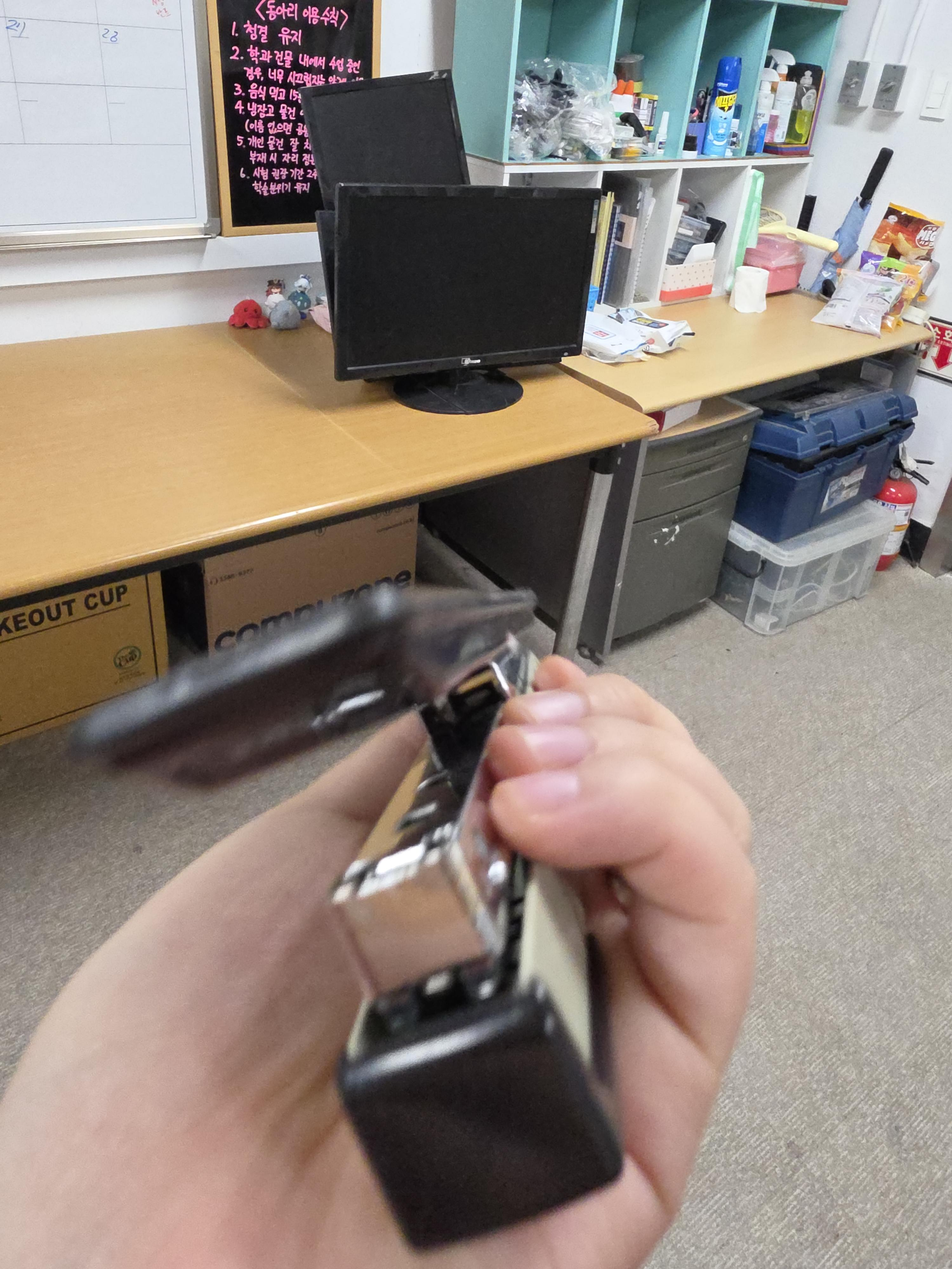stapler: (40, 579, 624, 1253)
tissue: (658, 241, 715, 302), (728, 264, 770, 314)
